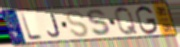G: (134, 5, 159, 36)
J: (47, 12, 62, 39)
L: (19, 13, 45, 41)
Q: (114, 6, 140, 37)
S: (86, 8, 114, 38), (65, 10, 90, 39)
